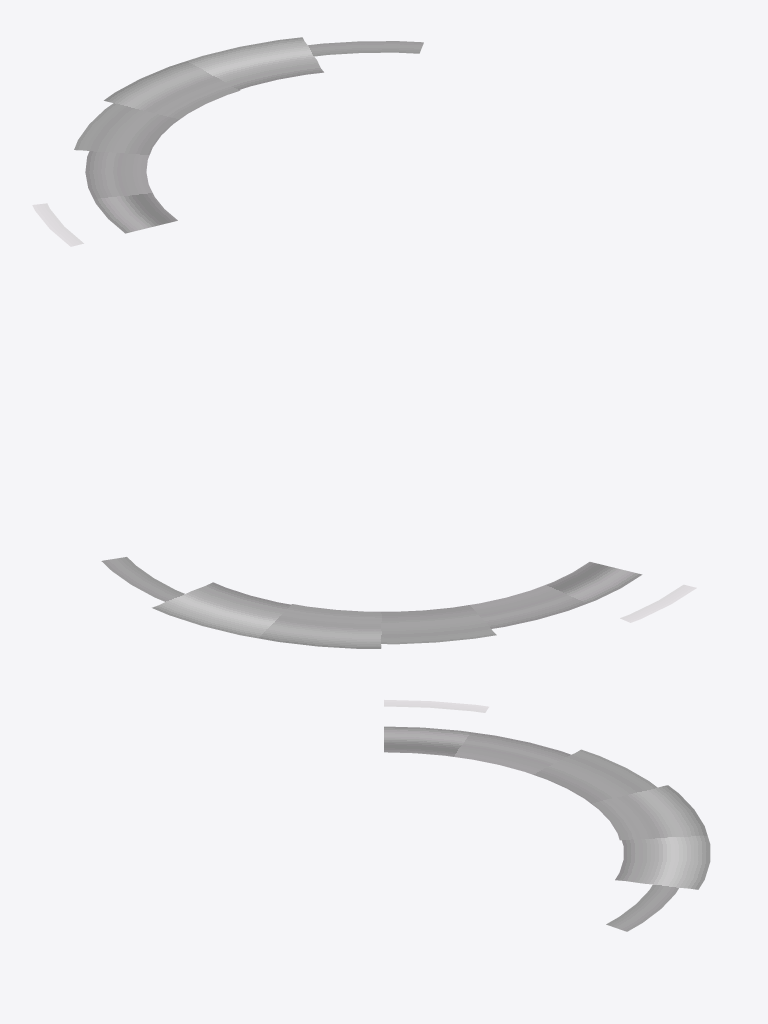
The model's file is banyuan.FBX.
The picture shows the model from 3 angles, top to bottom: view 1: azimuth 30°, elevation 25°; view 2: azimuth 150°, elevation 25°; view 3: azimuth 270°, elevation 25°; orthographic projection.
Parts seen in each view (by area): view 1: Plane001; view 2: Plane001; view 3: Plane001.
Part boxes in pixels (box(x1,y1,x2,y2)): Plane001: box(32, 37, 423, 246); Plane001: box(101, 557, 696, 648); Plane001: box(384, 700, 710, 931).
Bounding box in the file's own units: 317 × 1.94e-14 × 316.
